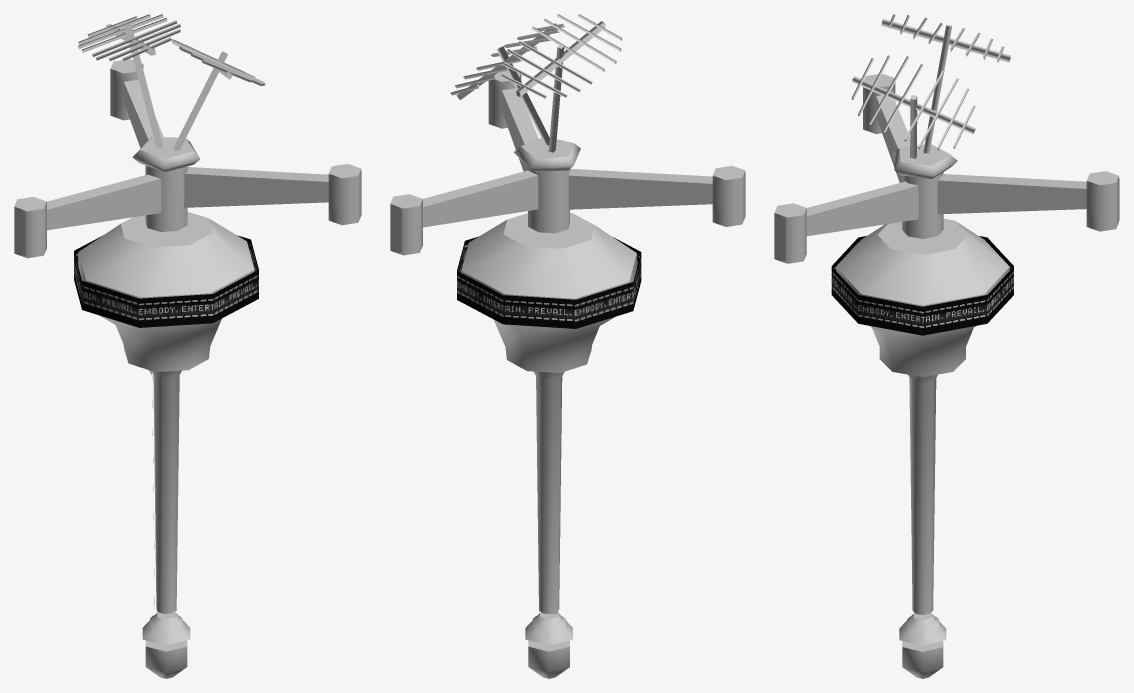
The model's file is Transmitor.fbx.
3 renders of one model, left to right at view 1: azimuth 30°, elevation 25°; view 2: azimuth 150°, elevation 25°; view 3: azimuth 270°, elevation 25°, orthographic.
Visible parts, largest first — view 1: TransmitorTop, TransmitorBody, TransmitorText, TransmitorBottom; view 2: TransmitorTop, TransmitorBody, TransmitorText, TransmitorBottom; view 3: TransmitorTop, TransmitorBody, TransmitorText, TransmitorBottom.
Boxes of the visible parts, box(x1,y1,x2,y2) form: TransmitorTop: box(14, 14, 361, 258); TransmitorBody: box(78, 212, 254, 613); TransmitorText: box(74, 235, 258, 327); TransmitorBottom: box(142, 612, 190, 678); TransmitorTop: box(390, 14, 745, 255); TransmitorBody: box(461, 213, 636, 614); TransmitorText: box(457, 236, 641, 328); TransmitorBottom: box(525, 612, 572, 678); TransmitorTop: box(774, 14, 1119, 263); TransmitorBody: box(836, 218, 1009, 614); TransmitorText: box(831, 236, 1013, 335); TransmitorBottom: box(899, 613, 946, 678).
Size of the model in its own units: 21.71 by 45.38 by 21.98.
